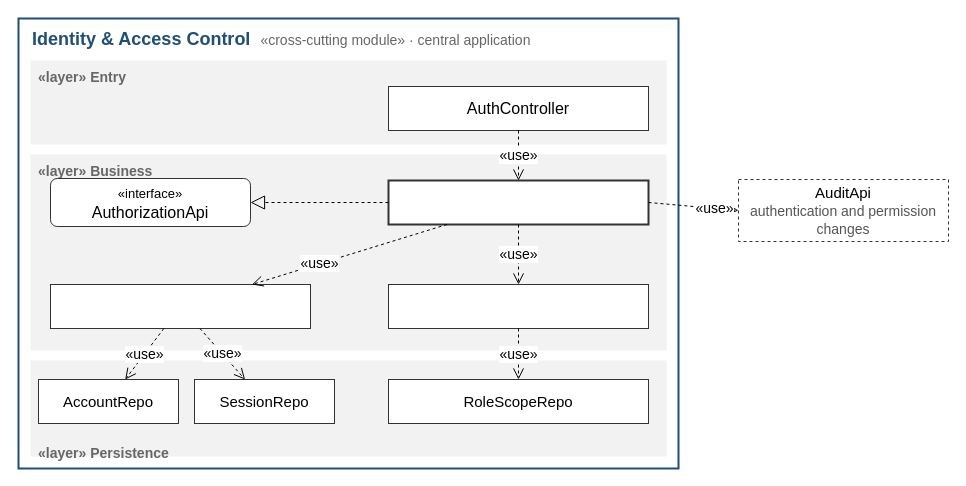
Some shapes in this 966 by 486 pixel diagram are drawn without their labels. The shapes that lost their labels are listed below. From the top down, each one's centre as x and y in pixels, then its label:
(518,202): IdentityFacade
(180,306): AuthenticationService
(518,306): RbacService
